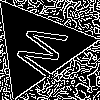W: (12, 21, 78, 83)
